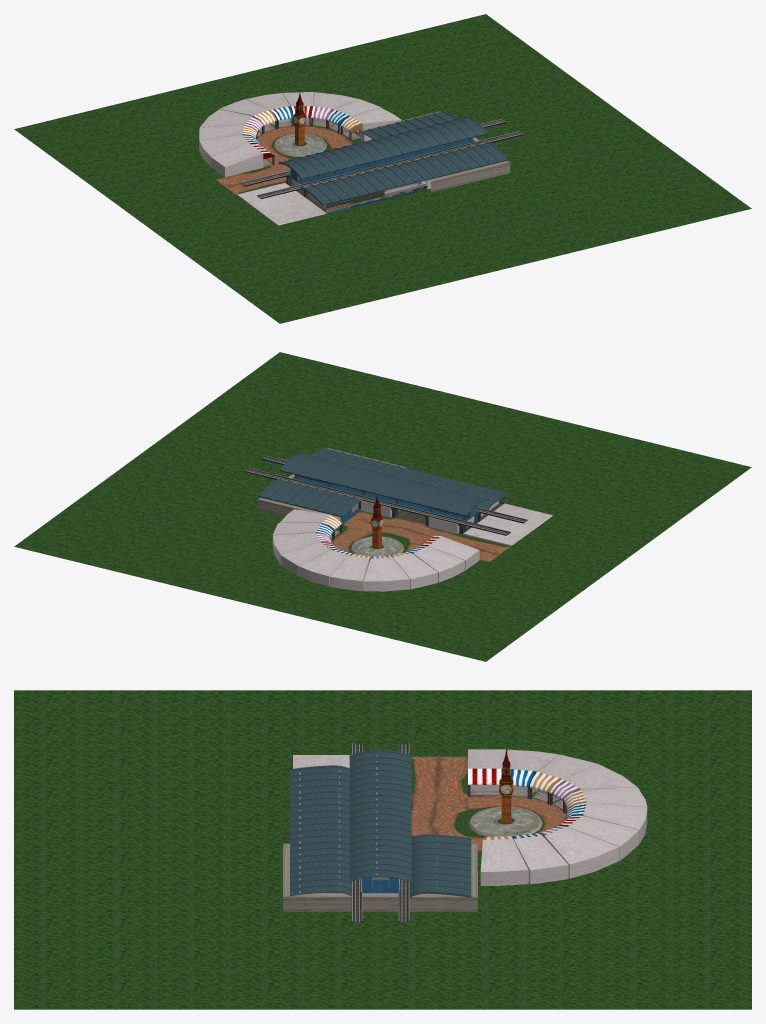
The model's file is mod_ground_outdoor.fbx.
3 views of the same model, one above another, from view 1: azimuth 30°, elevation 25°; view 2: azimuth 150°, elevation 25°; view 3: azimuth 270°, elevation 25° (orthographic). The views are drawn at different scales.
Parts seen in each view (by area): view 1: pPlane5, pCube97, polySurface1305, polySurface1417, polySurface1397, polySurface35, polySurface1304, polySurface1455, polySurface1388, pPlane1; view 2: pPlane5, pCube97, polySurface1305, polySurface1417, polySurface35, polySurface1397, polySurface1388, polySurface1304, pPlane1; view 3: pPlane5, pCube97, polySurface1305, polySurface1417, polySurface1397, polySurface1304, polySurface1388, polySurface35, pPlane1, pCube1.
Boxes of the visible parts, bbox=[...] form: pPlane5: bbox=[14, 14, 751, 323]; pCube97: bbox=[199, 92, 401, 176]; polySurface1305: bbox=[215, 121, 361, 225]; polySurface1417: bbox=[278, 116, 487, 179]; polySurface1397: bbox=[300, 142, 508, 205]; polySurface35: bbox=[240, 118, 523, 198]; polySurface1304: bbox=[360, 111, 510, 192]; polySurface1455: bbox=[288, 180, 427, 213]; polySurface1388: bbox=[359, 111, 457, 139]; pPlane1: bbox=[276, 134, 323, 154]; pPlane5: bbox=[14, 352, 751, 661]; pCube97: bbox=[272, 509, 479, 591]; polySurface1305: bbox=[331, 503, 552, 562]; polySurface1417: bbox=[280, 453, 488, 516]; polySurface35: bbox=[244, 455, 527, 535]; polySurface1397: bbox=[309, 447, 510, 509]; polySurface1388: bbox=[258, 479, 365, 517]; polySurface1304: bbox=[257, 448, 406, 528]; pPlane1: bbox=[354, 537, 400, 556]; pPlane5: bbox=[14, 690, 751, 1009]; pCube97: bbox=[468, 749, 647, 885]; polySurface1305: bbox=[293, 755, 567, 857]; polySurface1417: bbox=[349, 750, 411, 881]; polySurface1397: bbox=[290, 765, 351, 896]; polySurface1304: bbox=[283, 843, 477, 911]; polySurface1388: bbox=[409, 834, 471, 897]; polySurface35: bbox=[351, 743, 409, 922]; pPlane1: bbox=[472, 808, 538, 835]; pCube1: bbox=[499, 749, 513, 823].
Bounding box in the file's own units: 346 × 38.44 × 338.
